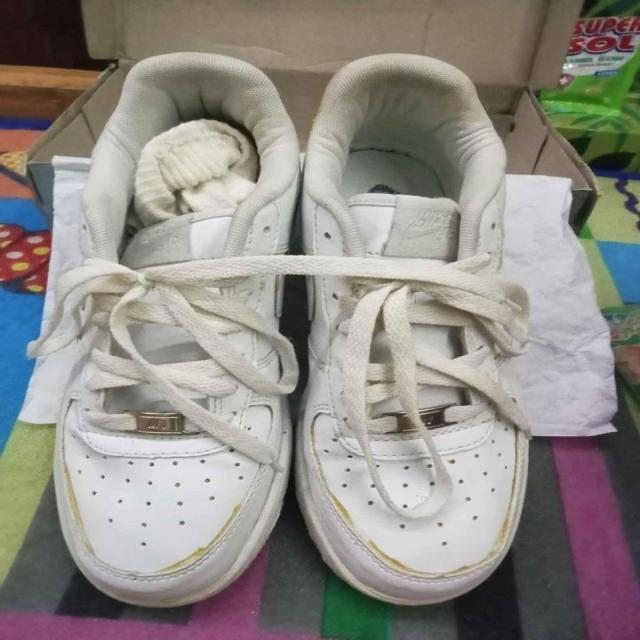nike fake air force: (47, 35, 307, 614), (291, 51, 531, 606)
